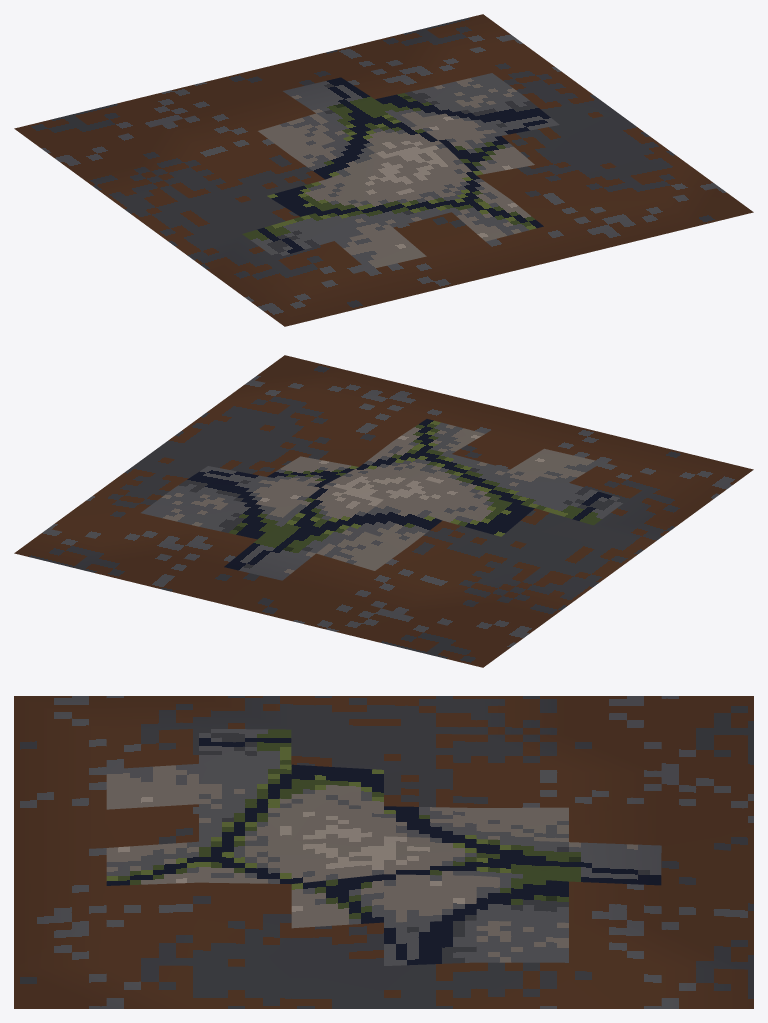
File: cave.floor__puddle.glb
The picture shows the model from 3 angles, top to bottom: view 1: azimuth 30°, elevation 25°; view 2: azimuth 150°, elevation 25°; view 3: azimuth 270°, elevation 25°; orthographic projection. The views are drawn at different scales.
Visible parts, largest first — view 1: kit_shell_floor; view 2: kit_shell_floor; view 3: kit_shell_floor.
Boxes of the visible parts, left/top/right/bottom form: kit_shell_floor: left=14, top=14, right=753, bottom=326; kit_shell_floor: left=14, top=355, right=753, bottom=667; kit_shell_floor: left=14, top=696, right=753, bottom=1008.
Bounding box in the file's own units: 4 × 0.133 × 4.
Materials: 3 (3 with a texture image).
